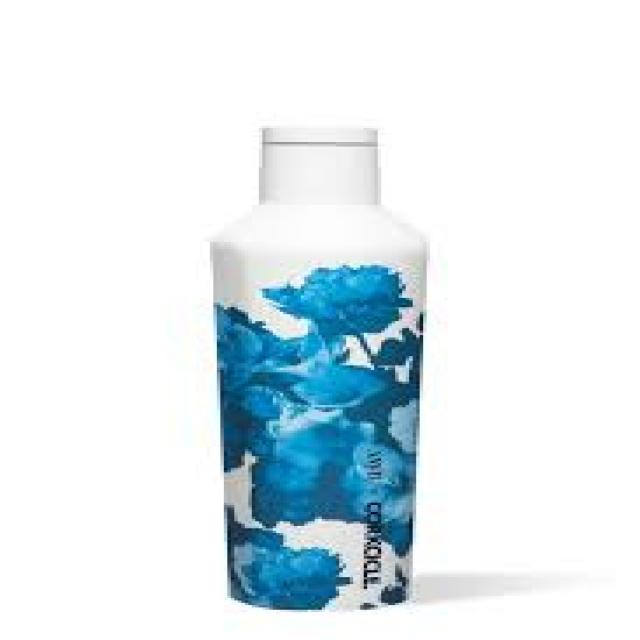bottle: (212, 126, 434, 614)
